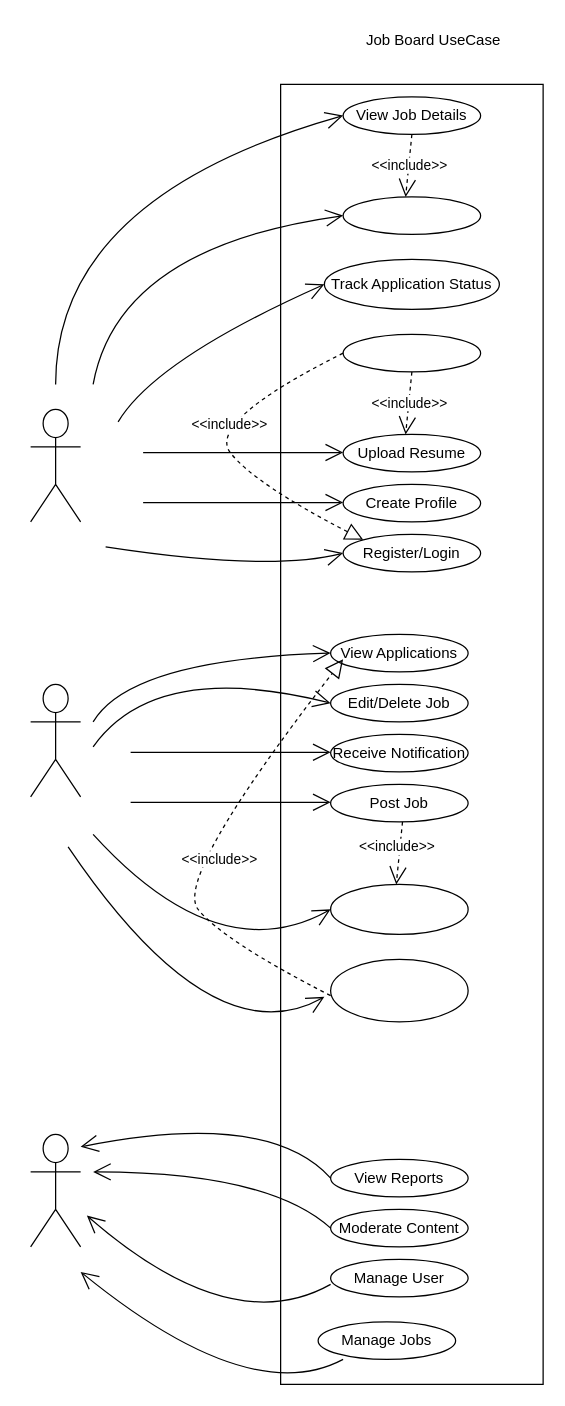
The diagram is 565 pixels wide and 1406 high, and some of its shapes have lost their labels. Here are the shapes that lost their labels. From the top down, the box of each, then its label:
(342, 196, 481, 234): Search Jobs
(342, 333, 481, 372): Apply For Job
(29, 408, 81, 522): Candidate
(29, 683, 81, 797): Employer
(329, 883, 468, 934): Create Company Profile
(329, 958, 468, 1022): Update Application Status
(29, 1133, 81, 1247): Admin
